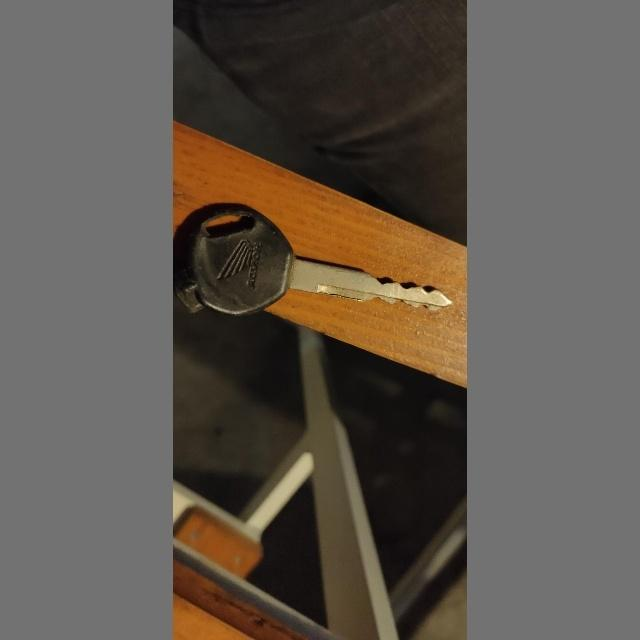Keys: (177, 202, 453, 322)
